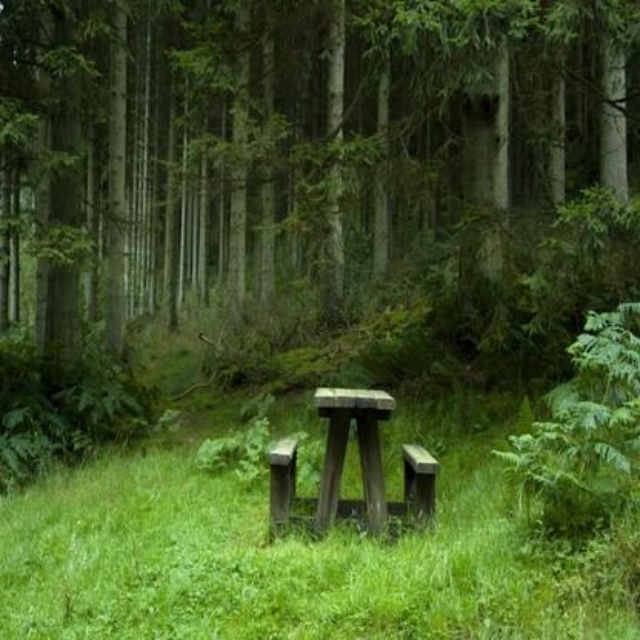obstacle: (238, 371, 454, 562)
